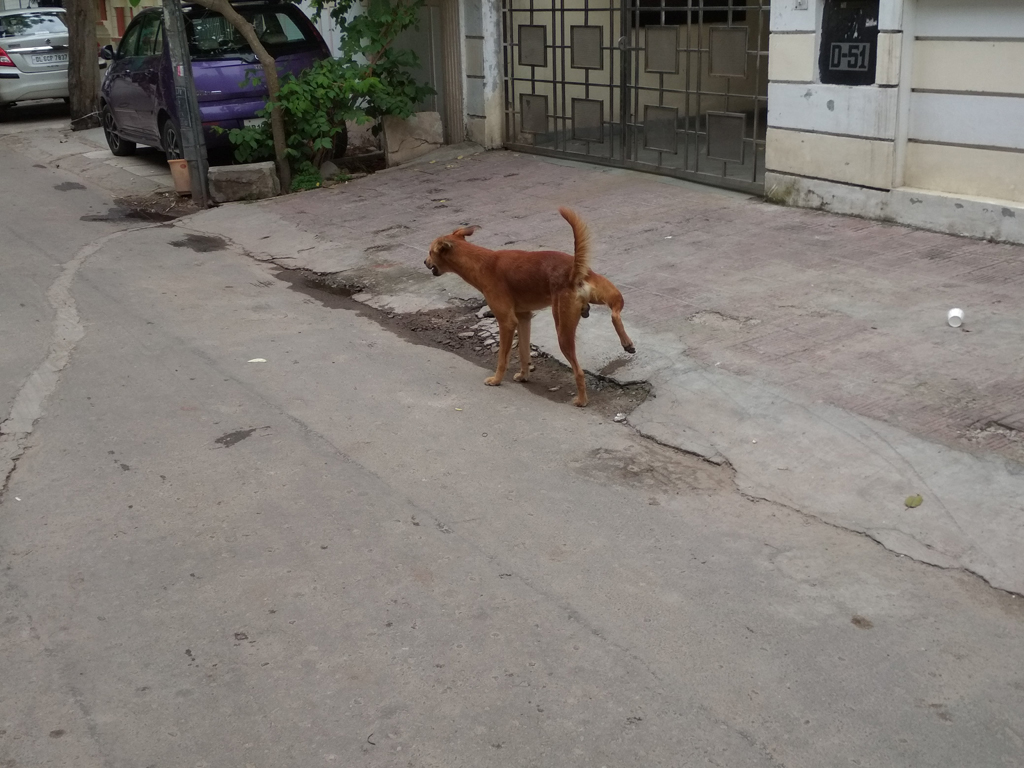dog: (423, 206, 634, 407)
